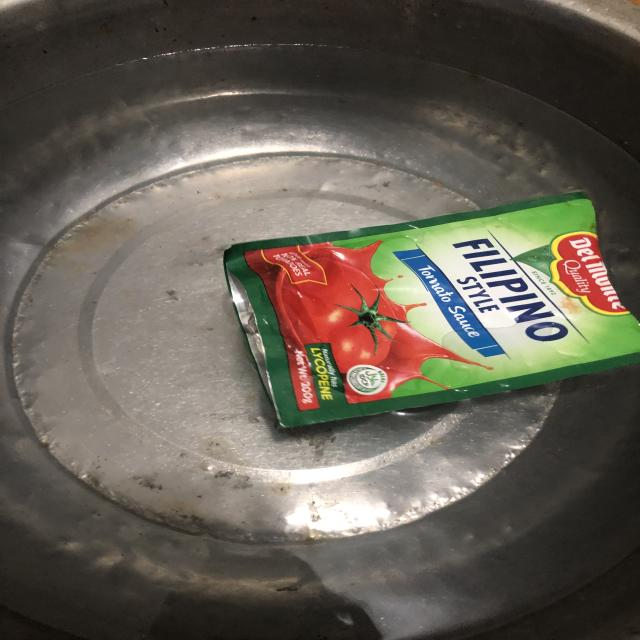Plastic Pouch: (218, 189, 640, 434)
